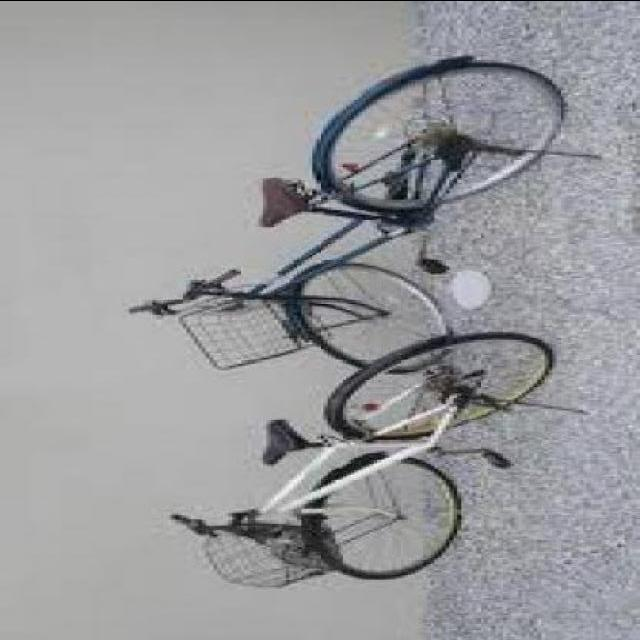bicycle: (121, 52, 579, 364), (176, 321, 550, 639)
